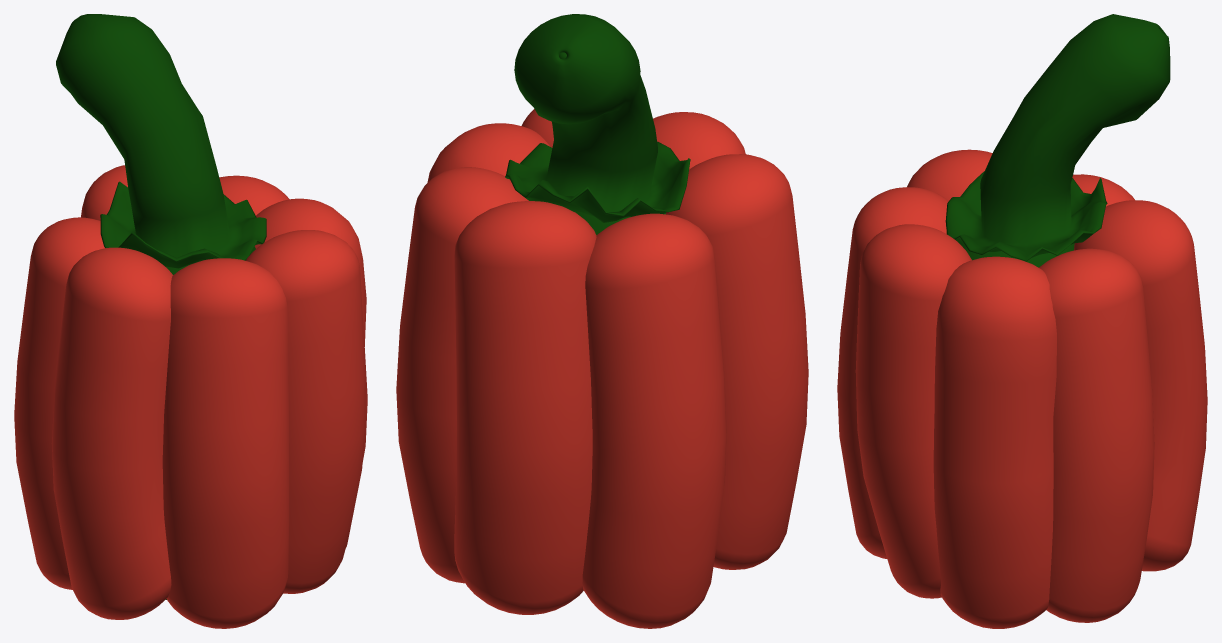
Rendered from LBSR_Bellpepper.fbx.
3 renders of one model, left to right at view 1: azimuth 30°, elevation 25°; view 2: azimuth 150°, elevation 25°; view 3: azimuth 270°, elevation 25°, orthographic. The views are drawn at different scales.
Visible parts, largest first — view 1: pepper.027, pepper.028, stem.003, pepper.026, pepper.022, pepper.025, pepper.024, pepper.023; view 2: pepper.023, pepper.022, pepper.028, stem.003, pepper.024, pepper.025, pepper.027, pepper.026; view 3: pepper.025, pepper.024, stem.003, pepper.026, pepper.023, pepper.027, pepper.028, pepper.022, root.003.
Part boxes in pixels (x1=…): pepper.027: x1=162, y1=258, x2=289, y2=628; pepper.028: x1=51, y1=247, x2=173, y2=619; stem.003: x1=56, y1=14, x2=266, y2=268; pepper.026: x1=245, y1=230, x2=365, y2=593; pepper.022: x1=14, y1=217, x2=104, y2=589; pepper.025: x1=254, y1=198, x2=367, y2=547; pepper.024: x1=219, y1=175, x2=289, y2=215; pepper.023: x1=81, y1=165, x2=127, y2=220; pepper.023: x1=454, y1=201, x2=596, y2=614; pepper.022: x1=582, y1=213, x2=726, y2=628; pepper.028: x1=666, y1=154, x2=808, y2=569; stem.003: x1=505, y1=14, x2=690, y2=222; pepper.024: x1=396, y1=167, x2=528, y2=583; pepper.025: x1=427, y1=123, x2=549, y2=182; pepper.027: x1=653, y1=112, x2=745, y2=169; pepper.026: x1=521, y1=109, x2=553, y2=147; pepper.025: x1=933, y1=256, x2=1056, y2=628; pepper.024: x1=1039, y1=248, x2=1154, y2=622; stem.003: x1=945, y1=14, x2=1170, y2=261; pepper.026: x1=855, y1=224, x2=971, y2=598; pepper.023: x1=1074, y1=200, x2=1207, y2=571; pepper.027: x1=837, y1=187, x2=948, y2=558; pepper.028: x1=907, y1=149, x2=992, y2=200; pepper.022: x1=1072, y1=174, x2=1134, y2=206; root.003: x1=958, y1=241, x2=1074, y2=267.
Size of the model in its own units: 0.2737 by 0.4533 by 0.2803.
